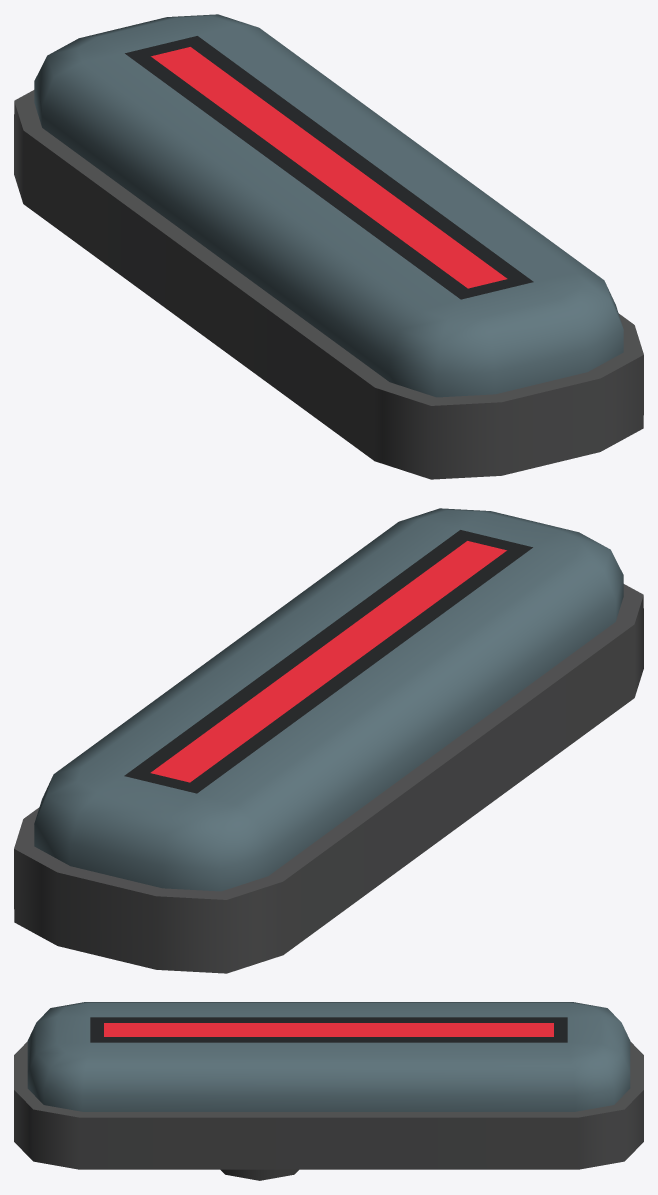
Rendered from Armchair_013_Armrest_02.fbx.
The picture shows the model from 3 angles, top to bottom: view 1: azimuth 30°, elevation 25°; view 2: azimuth 150°, elevation 25°; view 3: azimuth 270°, elevation 25°; orthographic projection. The views are drawn at different scales.
Parts seen in each view (by area): view 1: Armchair_013_Armrest_02; view 2: Armchair_013_Armrest_02; view 3: Armchair_013_Armrest_02.
Boxes of the visible parts, bbox=[...] form: Armchair_013_Armrest_02: bbox=[14, 14, 643, 479]; Armchair_013_Armrest_02: bbox=[14, 508, 643, 973]; Armchair_013_Armrest_02: bbox=[14, 1002, 643, 1180].
Bounding box in the file's own units: 13.32 × 39.4 × 8.87.
